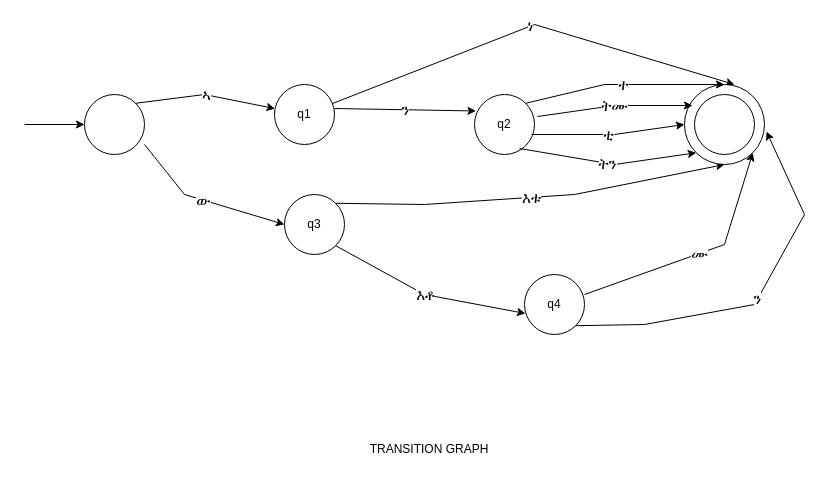
The diagram is 830 pixels wide and 482 high, and some of its shapes have lost their labels. The shapes that lost their labels are listed below. From the top down, each one's centre as x and y in pixels, then its label:
At (x=114, y=124): "q0".
At (x=724, y=124): "q5".
